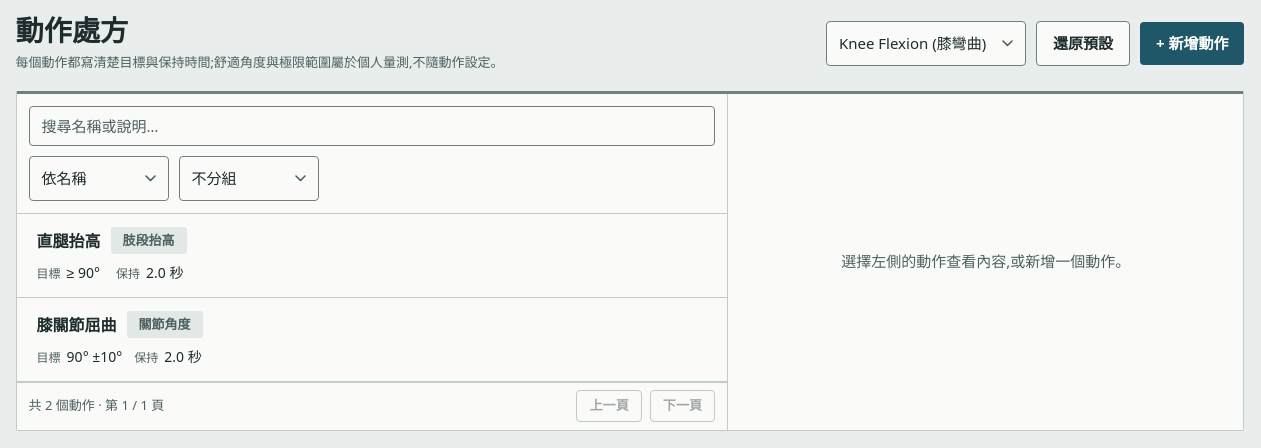
ActionsView 搜尋 › 即時縮小清單
This screenshot has width=1261, height=448.
In the search field with placeholder "搜尋名稱或說明…": (372, 126) [29,106,715,146], type "直腿"
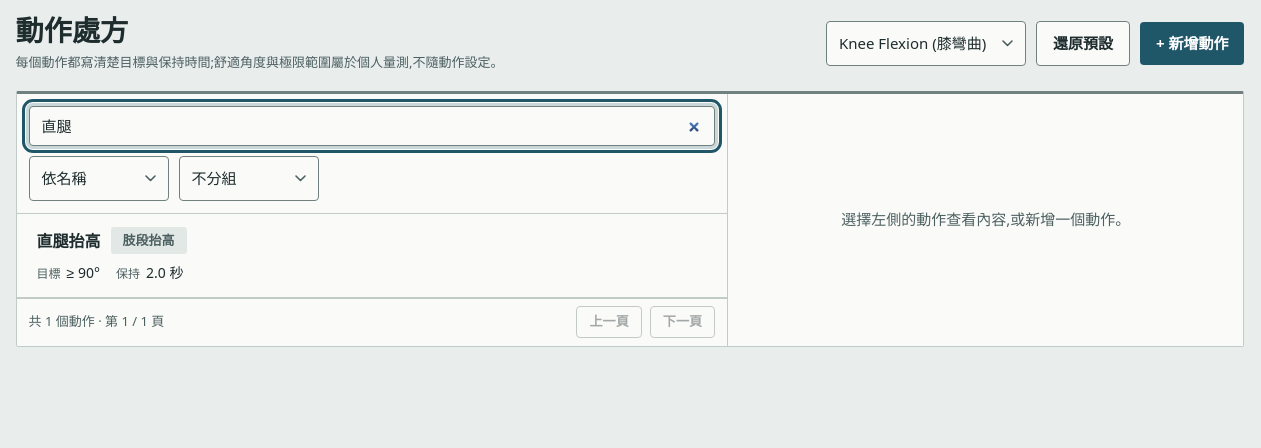
Expected: the text "直腿抬高" is shown, [37,228,101,252]
Expected: the button "膝關節屈曲" is gone
